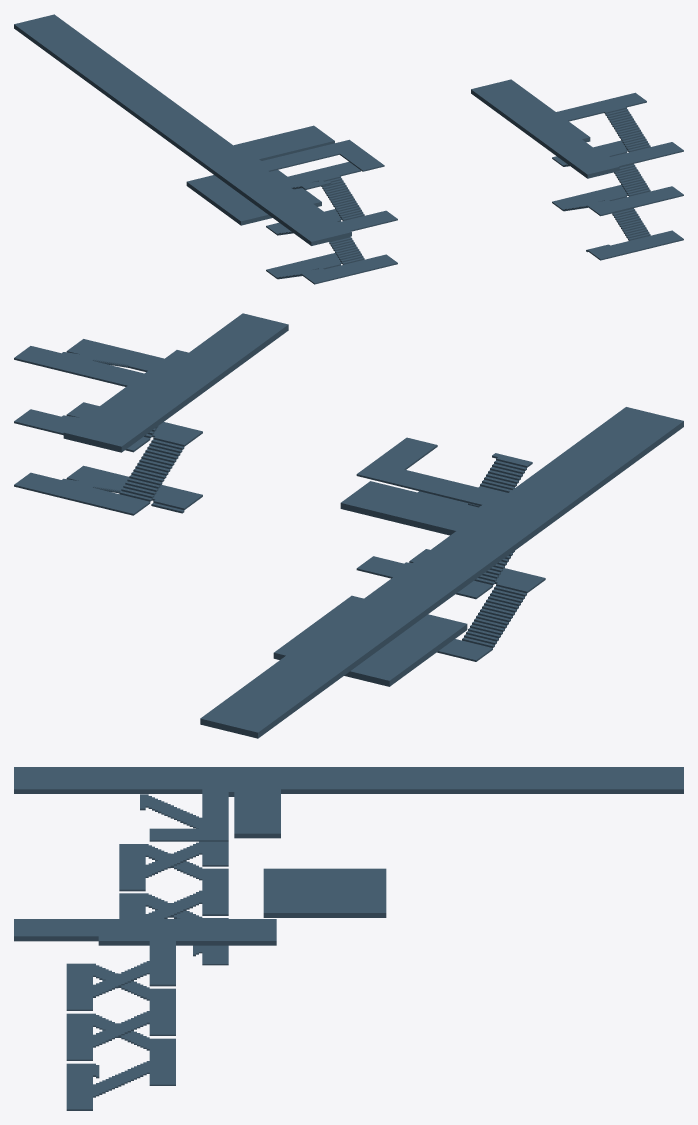
The model's file is v02-04-06-deck.glb.
The picture shows the model from 3 angles, top to bottom: view 1: azimuth 30°, elevation 25°; view 2: azimuth 150°, elevation 25°; view 3: azimuth 270°, elevation 25°; orthographic projection. The views are drawn at different scales.
Parts seen in each view (by area): view 1: v02-04-06-deck; view 2: v02-04-06-deck; view 3: v02-04-06-deck.
Part boxes in pixels (<box>): v02-04-06-deck: <box>14,14,683,284</box>; v02-04-06-deck: <box>14,313,683,738</box>; v02-04-06-deck: <box>14,767,683,1110</box>.
Bounding box in the file's own units: 58.8 × 16.08 × 76.5.
